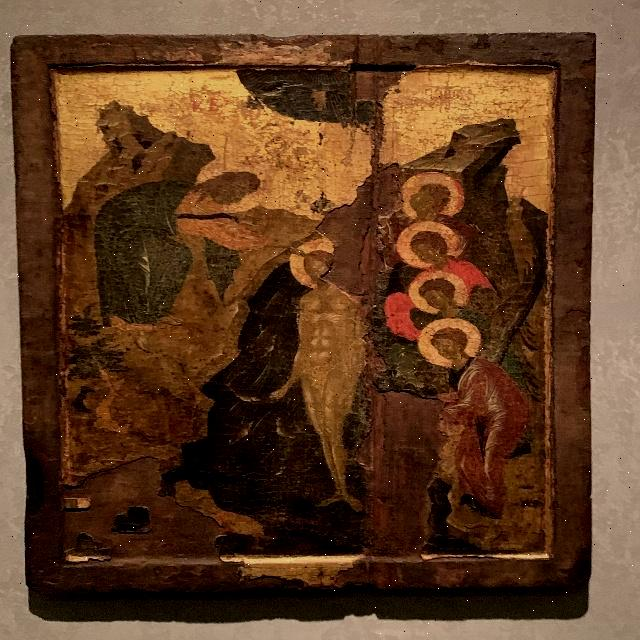angel: (417, 255, 549, 508)
aura: (401, 171, 464, 221), (416, 319, 483, 366), (287, 237, 351, 286), (396, 222, 466, 264), (407, 270, 468, 311)
christ_baptism: (283, 236, 372, 512)
saint: (80, 163, 280, 336)
wing: (487, 247, 549, 365)
